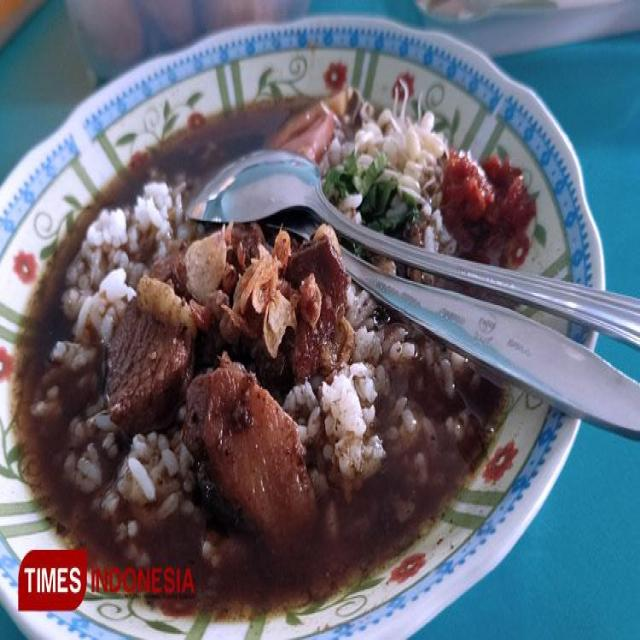Rawon: (29, 121, 496, 576)
